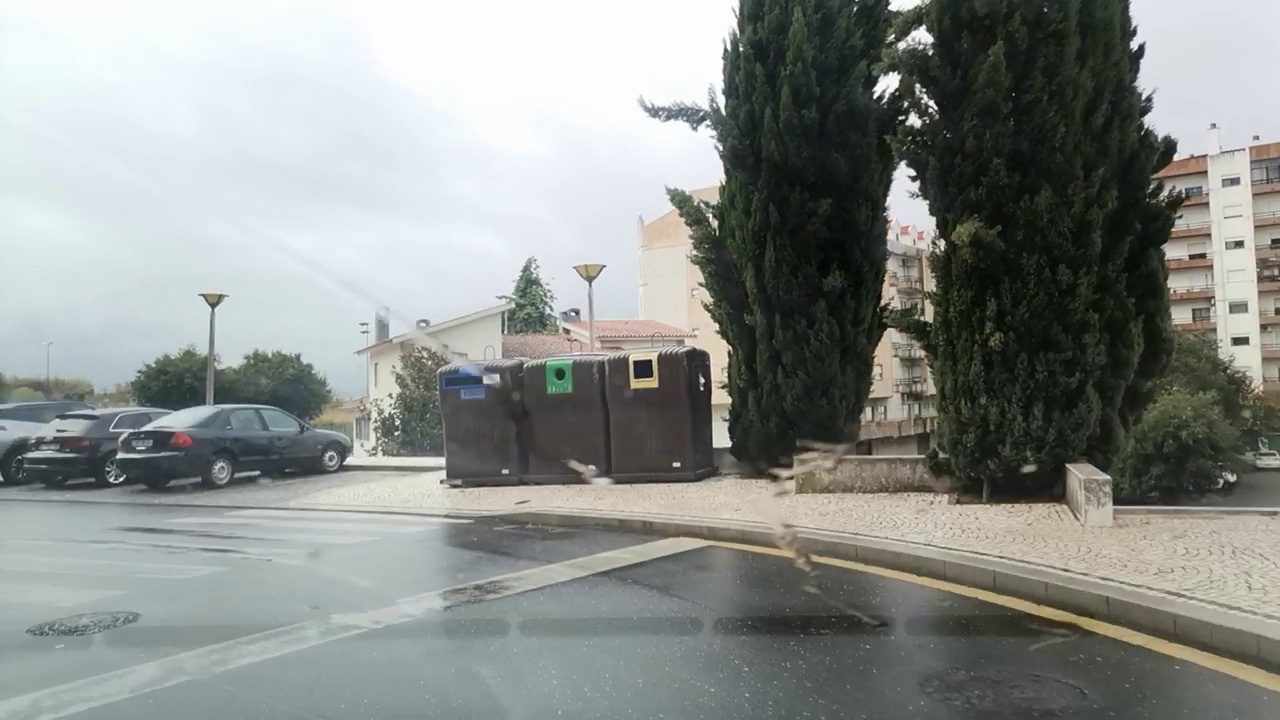Stairs: (0, 511, 476, 634)
